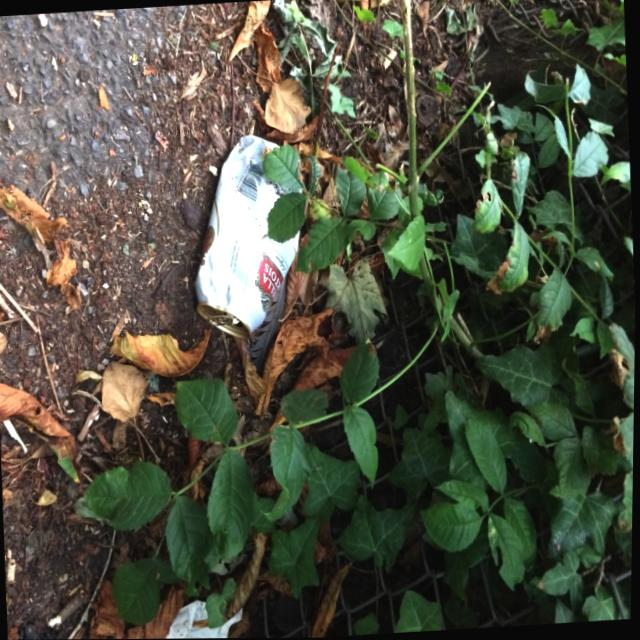Can-Metal: (184, 129, 321, 352)
